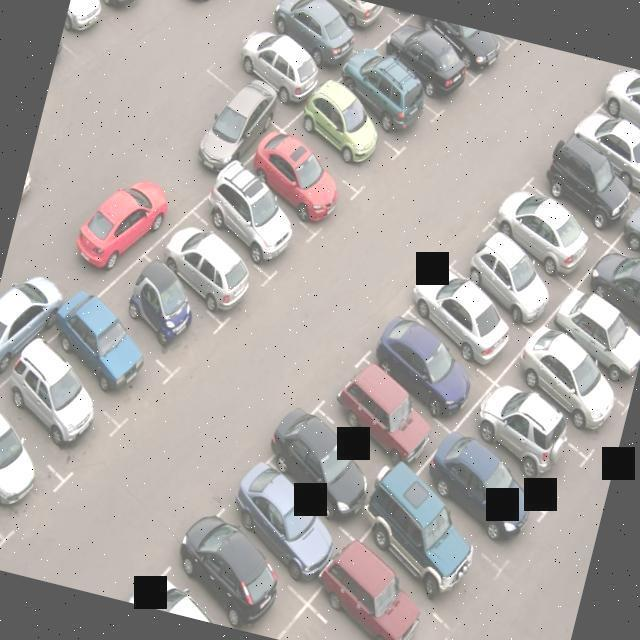space-empty: (284, 600, 401, 640)
space-occupied: (40, 292, 167, 433), (362, 490, 510, 605), (0, 341, 115, 484), (167, 527, 310, 640), (322, 356, 452, 480), (311, 531, 453, 640), (258, 412, 386, 530), (224, 462, 345, 582), (368, 317, 491, 432), (467, 380, 596, 489), (415, 441, 544, 549), (243, 121, 360, 239), (204, 158, 313, 281), (409, 261, 527, 373), (501, 325, 631, 426), (158, 215, 269, 328), (108, 255, 216, 369), (483, 181, 607, 273), (449, 223, 566, 319), (293, 86, 399, 189), (330, 50, 434, 153), (527, 138, 639, 231), (212, 28, 317, 121), (0, 397, 68, 532), (373, 24, 471, 115), (549, 283, 640, 371), (557, 95, 640, 190), (260, 0, 360, 75), (584, 245, 640, 340), (417, 17, 506, 76), (125, 588, 243, 630), (298, 0, 393, 49), (605, 70, 640, 147), (613, 194, 640, 284)
